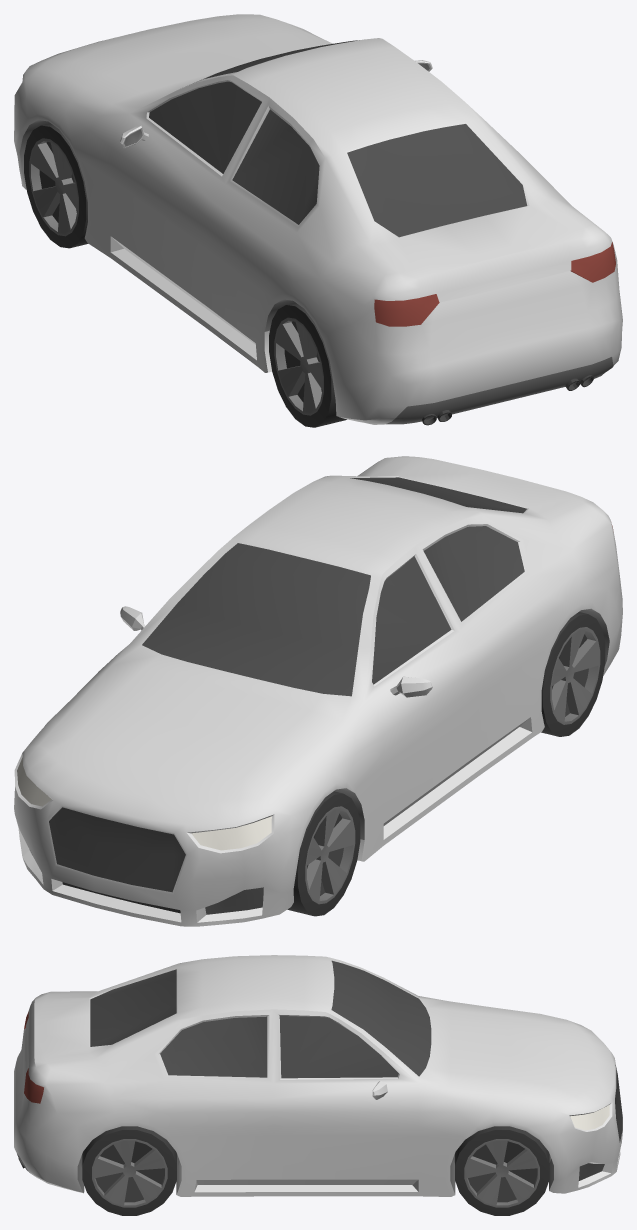
The model's file is free_sedan.fbx.
3 renders of one model, top to bottom at view 1: azimuth 30°, elevation 25°; view 2: azimuth 150°, elevation 25°; view 3: azimuth 270°, elevation 25°, orthographic. The views are drawn at different scales.
Parts seen in each view (by area): view 1: Body, RL, FL; view 2: Body, FL, RL; view 3: Body, RR, FR.
Boxes of the visible parts, x1,y1,x2,y2 form: Body: [14, 14, 622, 425]; RL: [269, 302, 346, 427]; FL: [24, 123, 88, 248]; Body: [14, 456, 622, 926]; FL: [287, 791, 360, 916]; RL: [541, 612, 605, 736]; Body: [14, 955, 622, 1196]; RR: [82, 1126, 176, 1215]; FR: [455, 1126, 549, 1215].
Size of the model in its own units: 2.04 by 4.55 by 1.54.
